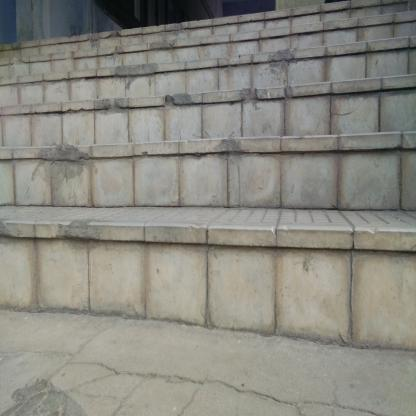stairs: (1, 27, 416, 318)
